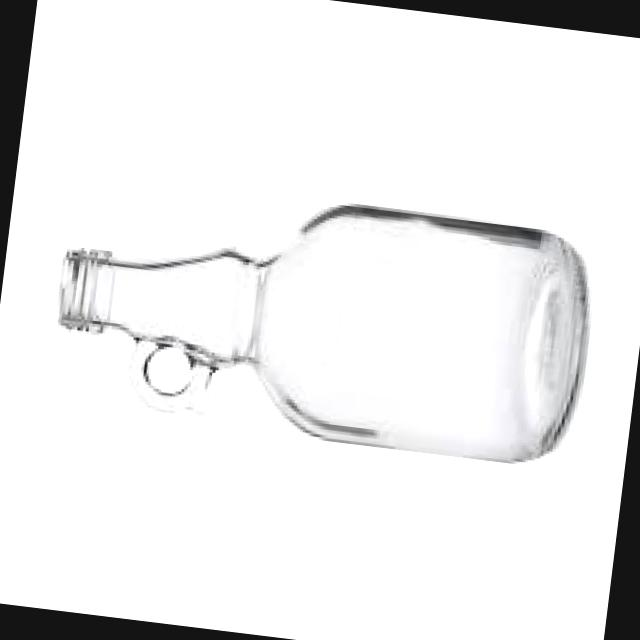bottle: (59, 206, 586, 462)
